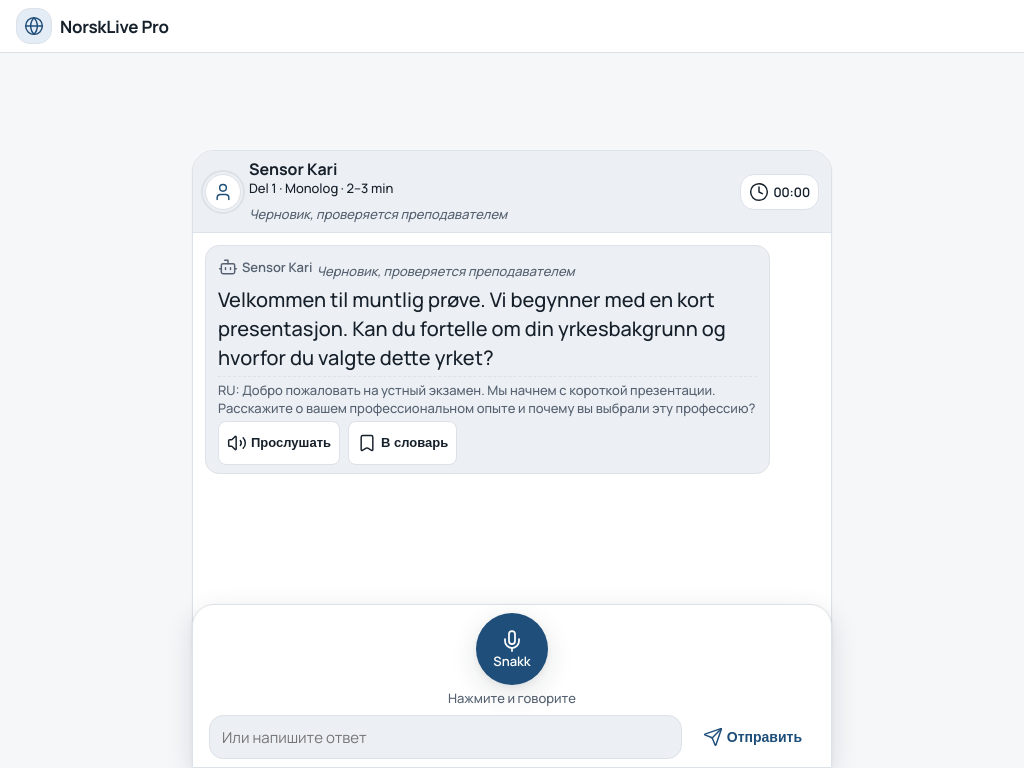
Test case: StudioPage (/ and /studio) M1a-3 Full UI, Chat & Voice › 5 (a). Typing a phrase and pressing "Отправить" posts expected body to /api/coach and renders user bubble, AI bubble, coaching card, and hints
Type "I dag jeg liker kaffe" into the field with id "userSpeechInput". click: (445, 737)
box: 209,715 -> 682,759
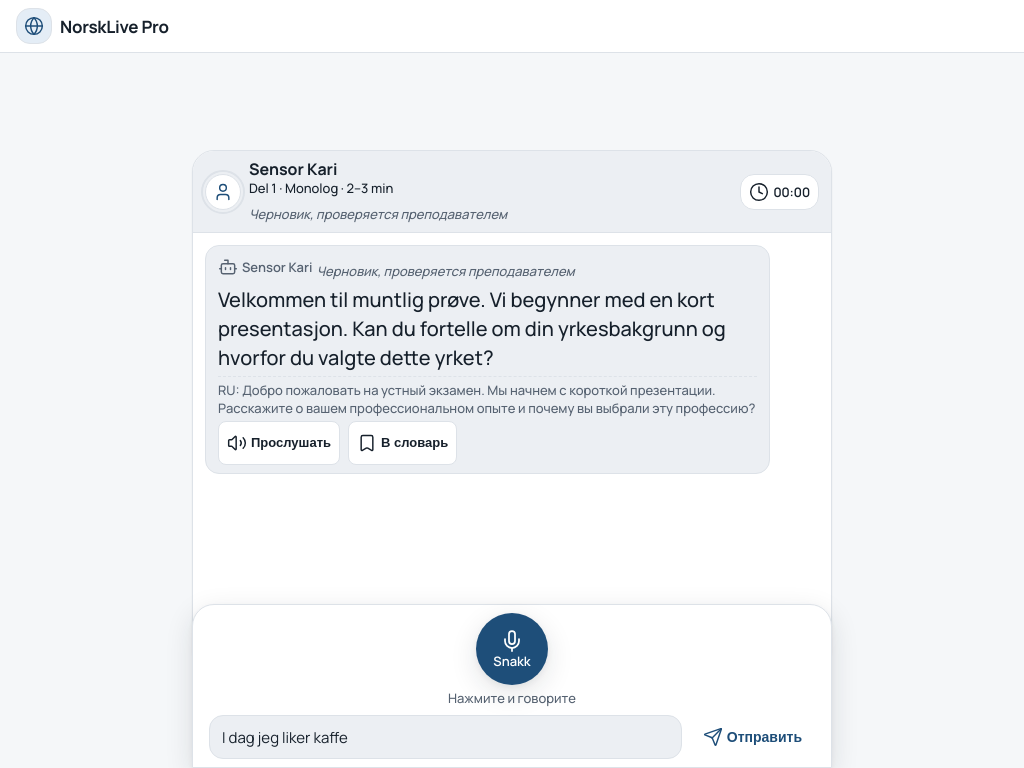
Click the button with id "sendSpeechBtn". click: click(752, 737)
box: 690,715 -> 815,759
(page scrolled)
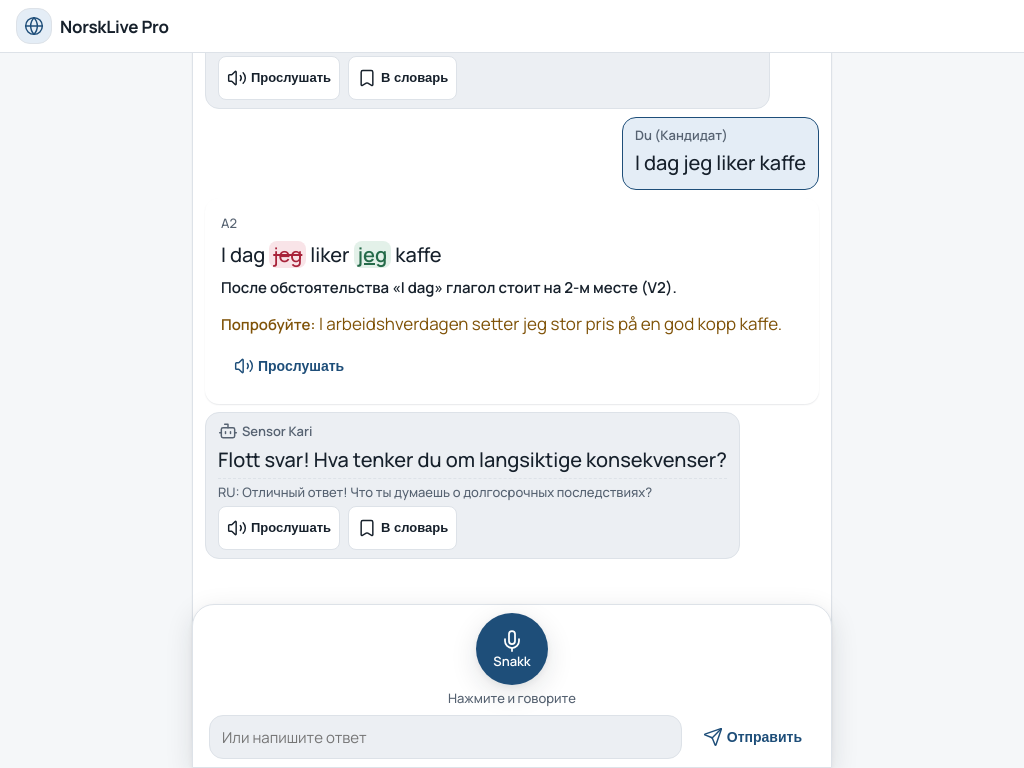
Expected: the element with id "chatStream" shows "I dag jeg liker kaffe", 635,149 -> 806,176
Expected: the number of elements with class "correction-card" is 1, 205,198 -> 819,404
Expected: the element with class "correction-card" shows "После обстоятельства «I dag» глагол стоит на 2-м месте (V2).", 221,277 -> 677,298
